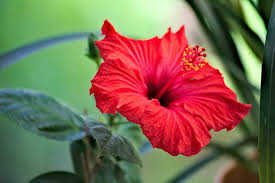hybiscus: (92, 19, 250, 160)
